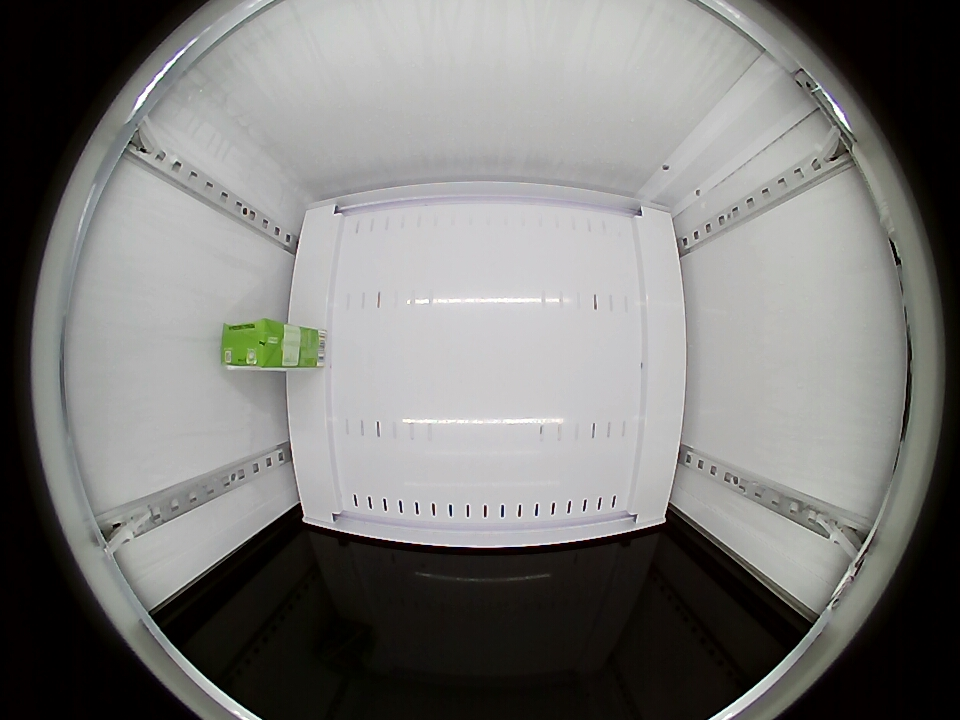mengniuzaocan: (221, 321, 280, 370)
